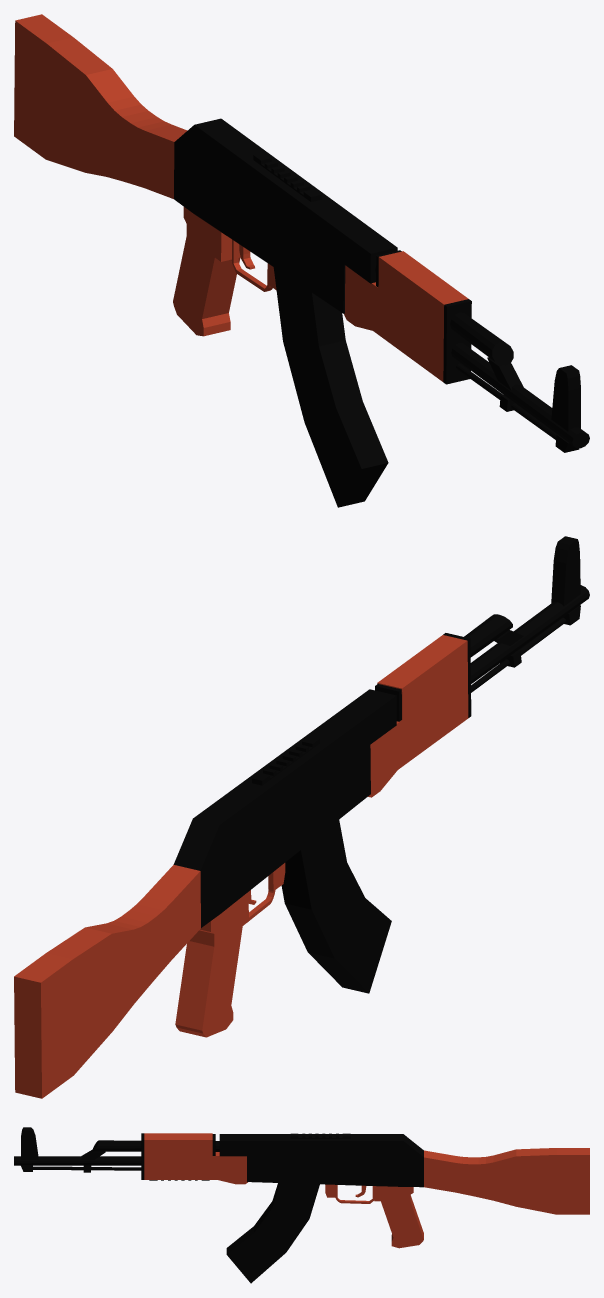
The model's file is P_Gun.fbx.
3 renders of one model, top to bottom at view 1: azimuth 30°, elevation 25°; view 2: azimuth 150°, elevation 25°; view 3: azimuth 270°, elevation 25°, orthographic. The views are drawn at different scales.
Parts seen in each view (by area): view 1: Cube.005; view 2: Cube.005; view 3: Cube.005.
Part boxes in pixels (<box>): Cube.005: <box>14,14,589,507</box>; Cube.005: <box>14,536,589,1098</box>; Cube.005: <box>14,1127,589,1283</box>.
Size of the model in its own units: 22.39 by 210 by 721.
